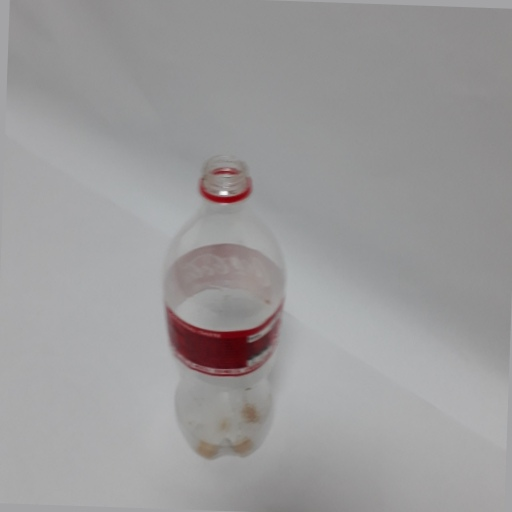Plastic_0: (154, 152, 293, 468)
